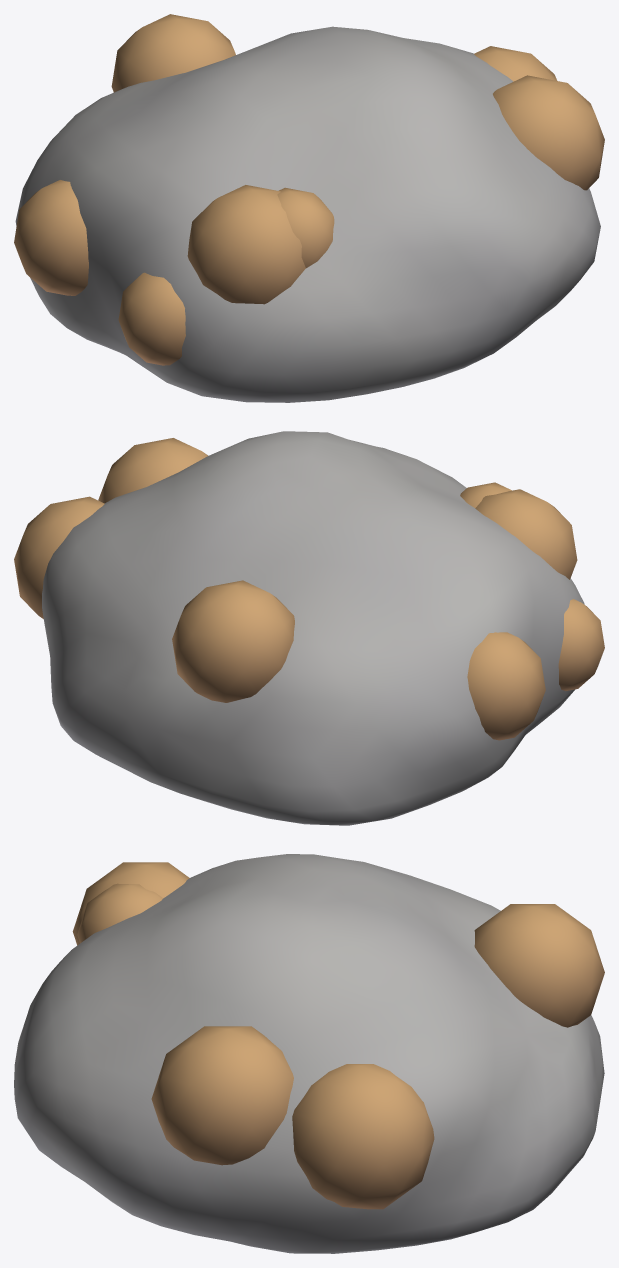
The model's file is Rock_Ore.fbx.
The picture shows the model from 3 angles, top to bottom: view 1: azimuth 30°, elevation 25°; view 2: azimuth 150°, elevation 25°; view 3: azimuth 270°, elevation 25°; orthographic projection. The views are drawn at different scales.
Parts seen in each view (by area): view 1: Rock_Ore; view 2: Rock_Ore; view 3: Rock_Ore.
Boxes of the visible parts, x1=… form: Rock_Ore: x1=14, y1=14, x2=604, y2=402; Rock_Ore: x1=14, y1=431, x2=604, y2=825; Rock_Ore: x1=14, y1=854, x2=604, y2=1253.
Bounding box in the file's own units: 2.76 × 1.36 × 2.49.
